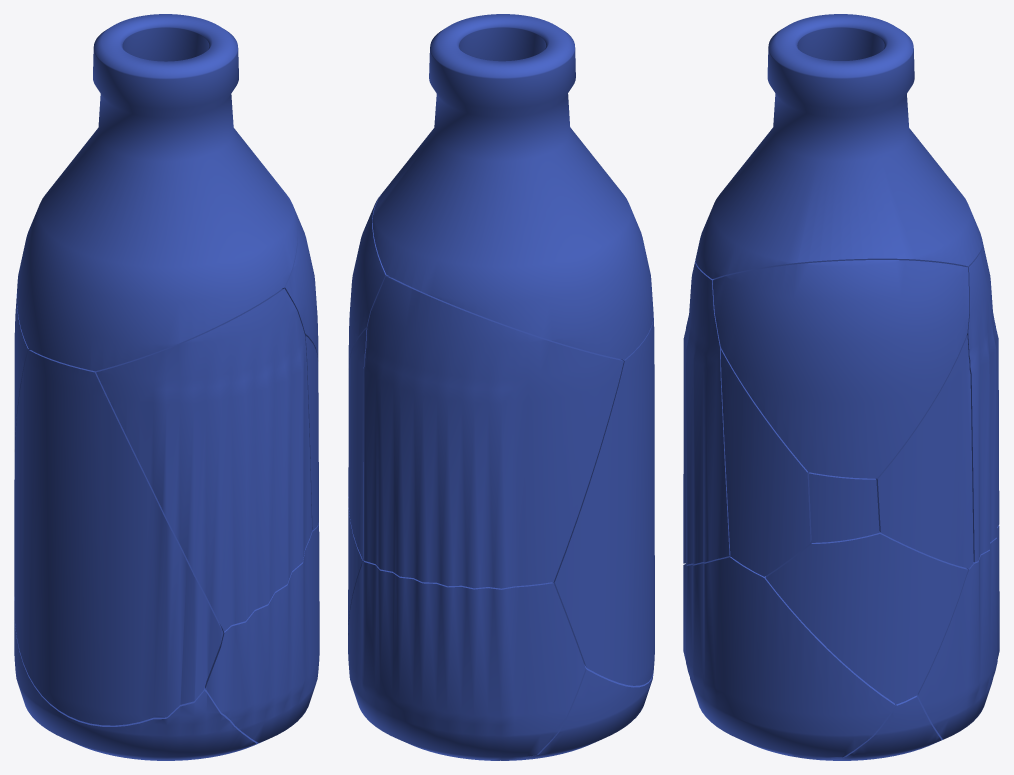
The model's file is bottle_apothecary_shards.glb.
The picture shows the model from 3 angles, left to right: view 1: azimuth 30°, elevation 25°; view 2: azimuth 150°, elevation 25°; view 3: azimuth 270°, elevation 25°; orthographic projection.
Parts seen in each view (by area): view 1: Shard_00, Shard_02, Shard_04, Shard_06, Shard_01, Shard_07, Shard_10, Shard_03; view 2: Shard_00, Shard_03, Shard_05, Shard_02, Shard_01, Shard_09, Shard_07, Shard_08; view 3: Shard_00, Shard_07, Shard_06, Shard_08, Shard_09, Shard_10, Shard_04, Shard_05, Shard_03, Shard_11, Shard_01.
Part boxes in pixels (x1=…): Shard_00: x1=17, y1=14, x2=297, y2=371; Shard_02: x1=14, y1=349, x2=223, y2=725; Shard_04: x1=96, y1=288, x2=312, y2=631; Shard_06: x1=205, y1=523, x2=319, y2=742; Shard_01: x1=14, y1=621, x2=261, y2=760; Shard_07: x1=282, y1=198, x2=318, y2=361; Shard_10: x1=305, y1=335, x2=318, y2=530; Shard_03: x1=14, y1=294, x2=30, y2=451; Shard_00: x1=372, y1=14, x2=653, y2=359; Shard_03: x1=363, y1=276, x2=623, y2=588; Shard_05: x1=348, y1=560, x2=585, y2=760; Shard_02: x1=552, y1=317, x2=654, y2=685; Shard_01: x1=348, y1=653, x2=653, y2=760; Shard_09: x1=348, y1=328, x2=367, y2=560; Shard_07: x1=348, y1=195, x2=391, y2=369; Shard_08: x1=348, y1=497, x2=362, y2=634; Shard_00: x1=695, y1=14, x2=982, y2=279; Shard_07: x1=712, y1=260, x2=969, y2=478; Shard_06: x1=683, y1=556, x2=895, y2=758; Shard_08: x1=765, y1=531, x2=967, y2=704; Shard_09: x1=876, y1=335, x2=973, y2=568; Shard_10: x1=721, y1=349, x2=811, y2=576; Shard_04: x1=683, y1=260, x2=730, y2=564; Shard_05: x1=917, y1=525, x2=999, y2=739; Shard_03: x1=966, y1=242, x2=999, y2=562; Shard_11: x1=809, y1=472, x2=879, y2=542; Shard_01: x1=800, y1=694, x2=942, y2=760.
Bounding box in the file's own units: 0.0463 × 0.1117 × 0.048.
